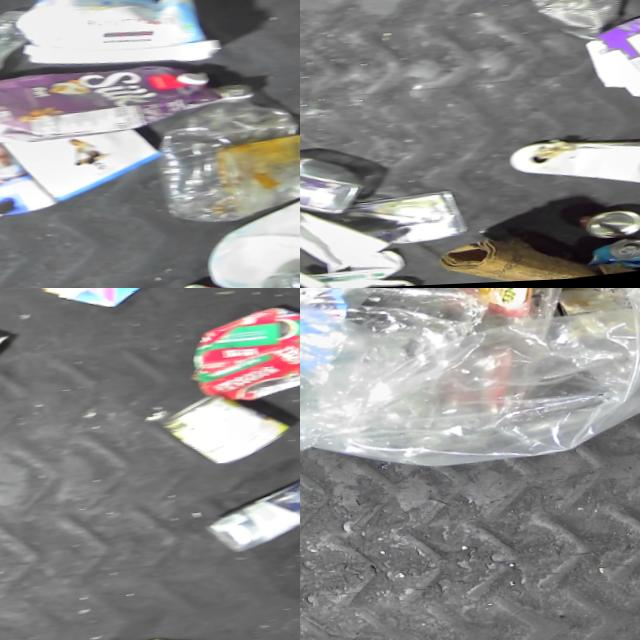can: (187, 306, 300, 410), (159, 393, 292, 474), (533, 0, 627, 38), (582, 208, 640, 243), (592, 236, 640, 274)
milk_jug: (198, 183, 300, 288), (300, 181, 393, 281)
non_white_jug: (0, 53, 228, 153), (583, 6, 640, 110)
plastic_bottle: (153, 79, 300, 232), (0, 7, 36, 124), (254, 255, 300, 288)
